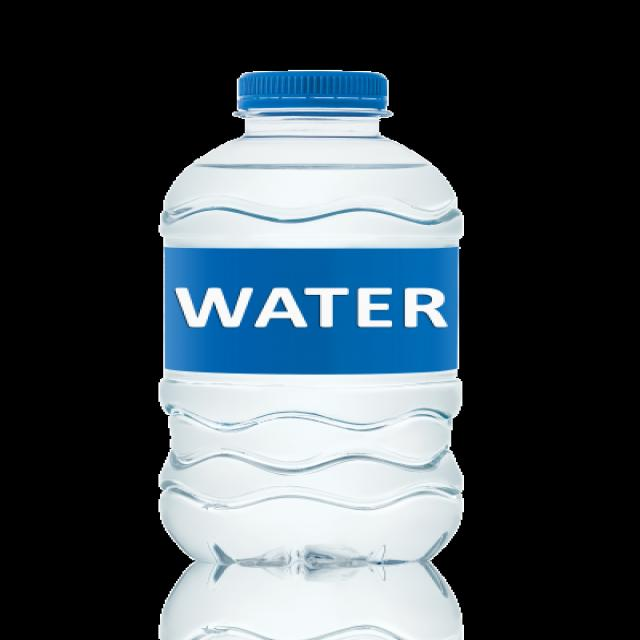bottle: (140, 49, 570, 576)
